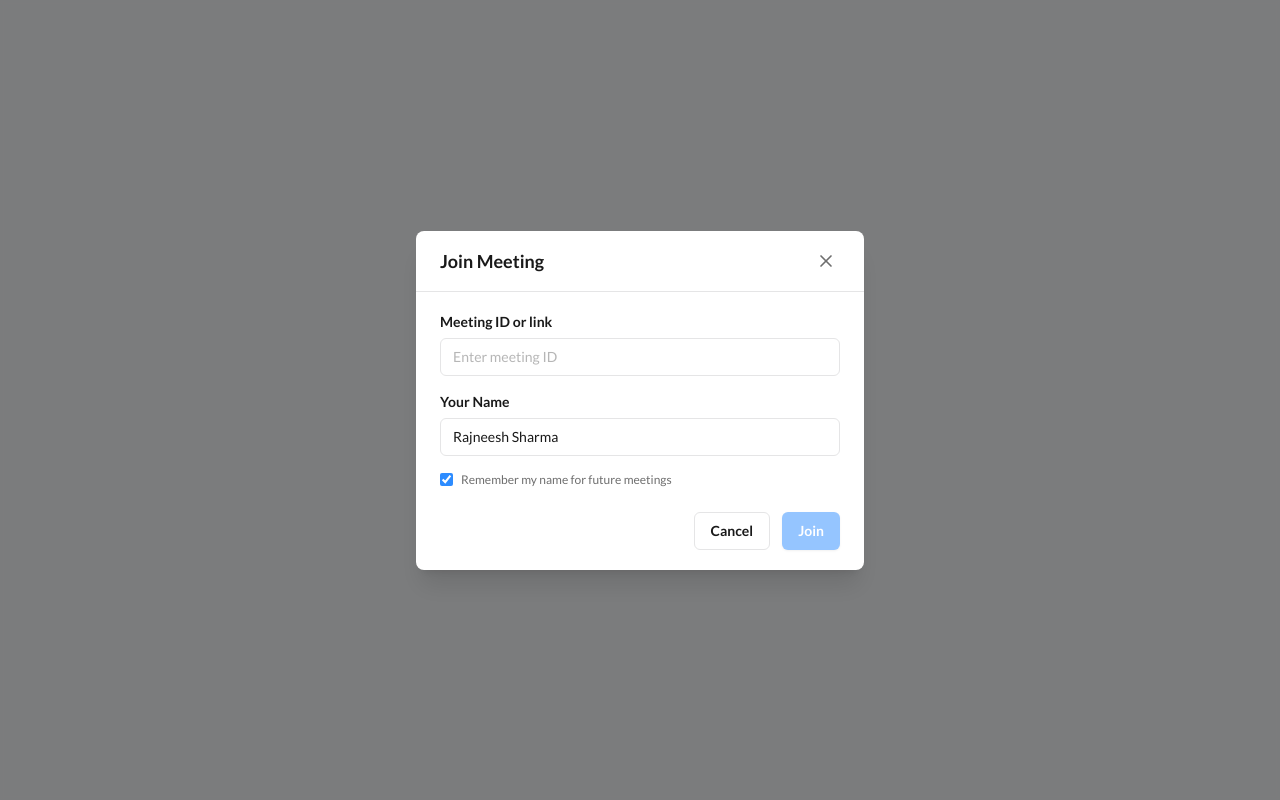
JoinMeetingModal › shows invalid meeting ID error when API returns valid: false
Step 1. Type "99999999999" into the field with placeholder "Enter meeting ID" → coordinates (640, 356), box 440,338 -> 840,376
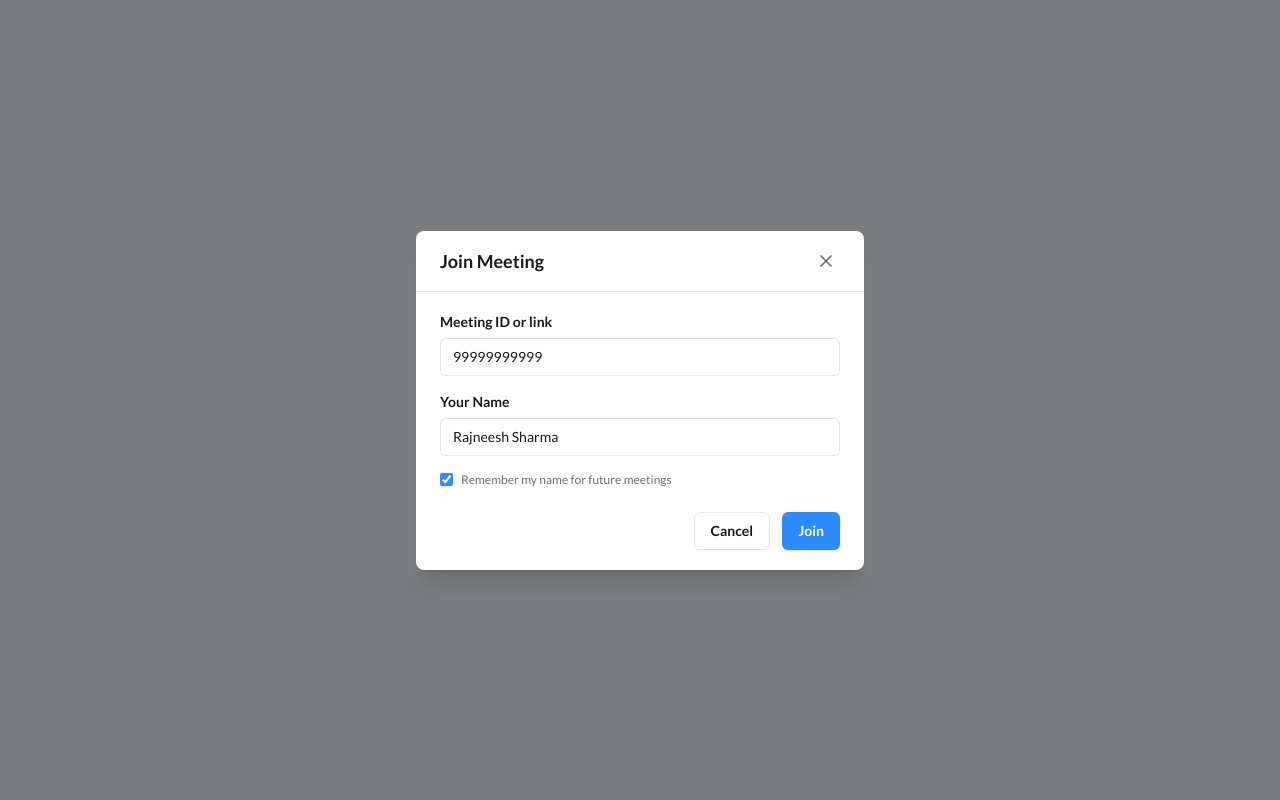
Step 2. Click the button "Join" → coordinates (811, 530), box 782,512 -> 840,550
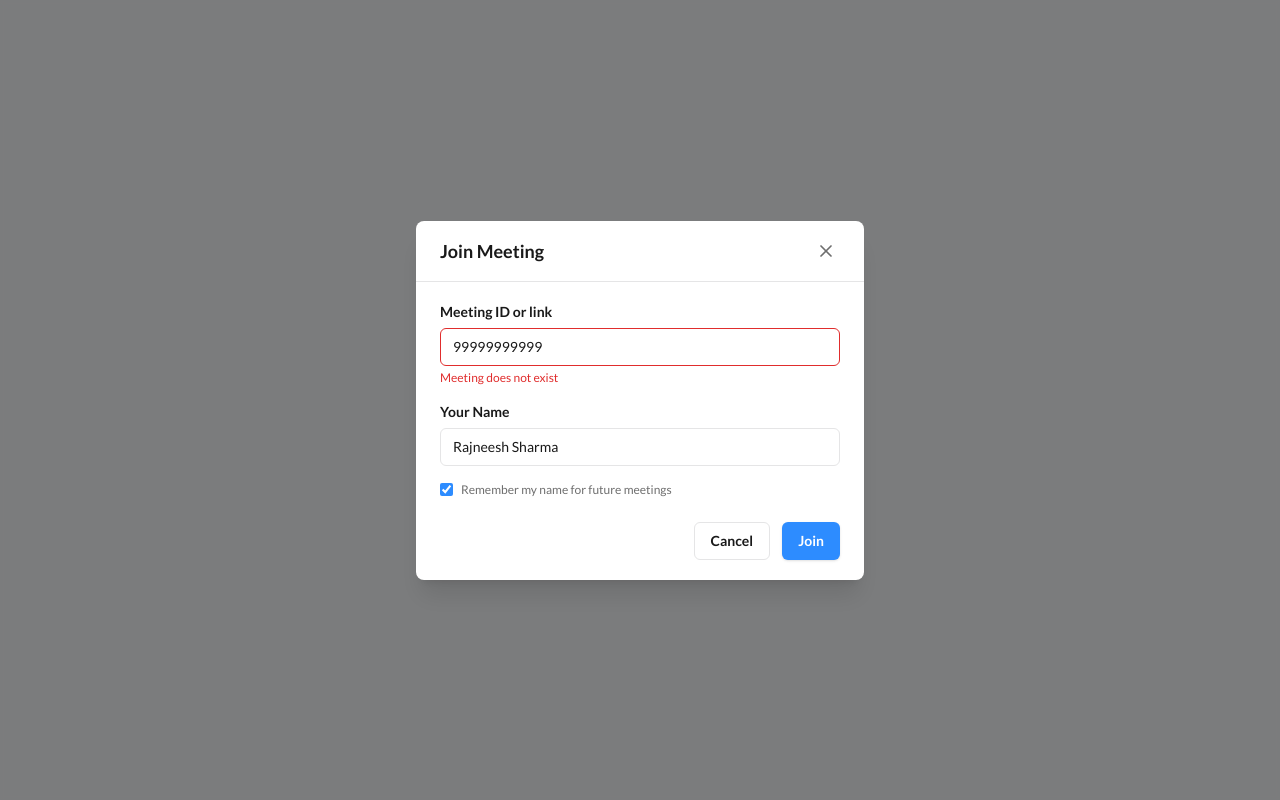
Check: the text "Meeting does not exist" is shown, box 440,370 -> 558,384
